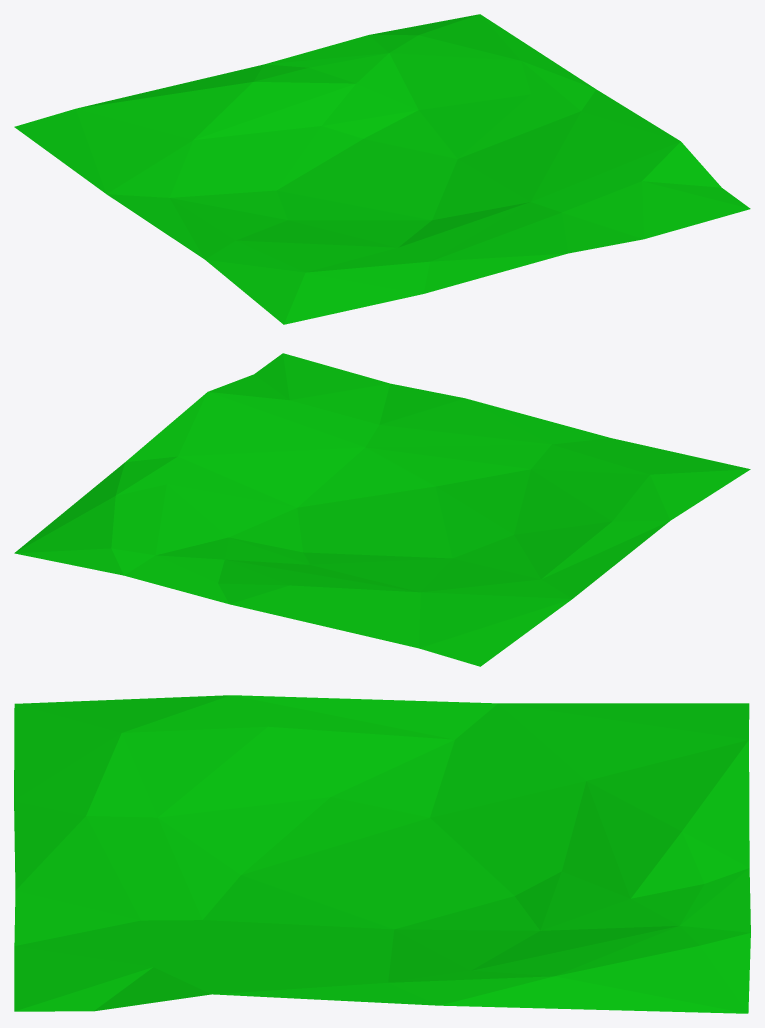
The model's file is LandscapeSheepLands.fbx.
3 views of the same model, one above another, from view 1: azimuth 30°, elevation 25°; view 2: azimuth 150°, elevation 25°; view 3: azimuth 270°, elevation 25° (orthographic). The views are drawn at different scales.
Visible parts, largest first — view 1: Plane.001; view 2: Plane.001; view 3: Plane.001.
Boxes of the visible parts, box(x1,y1,x2,y2) form: Plane.001: box(14, 14, 750, 324); Plane.001: box(14, 353, 750, 666); Plane.001: box(14, 695, 750, 1013).
Size of the model in its own units: 2014 by 117 by 2011.
